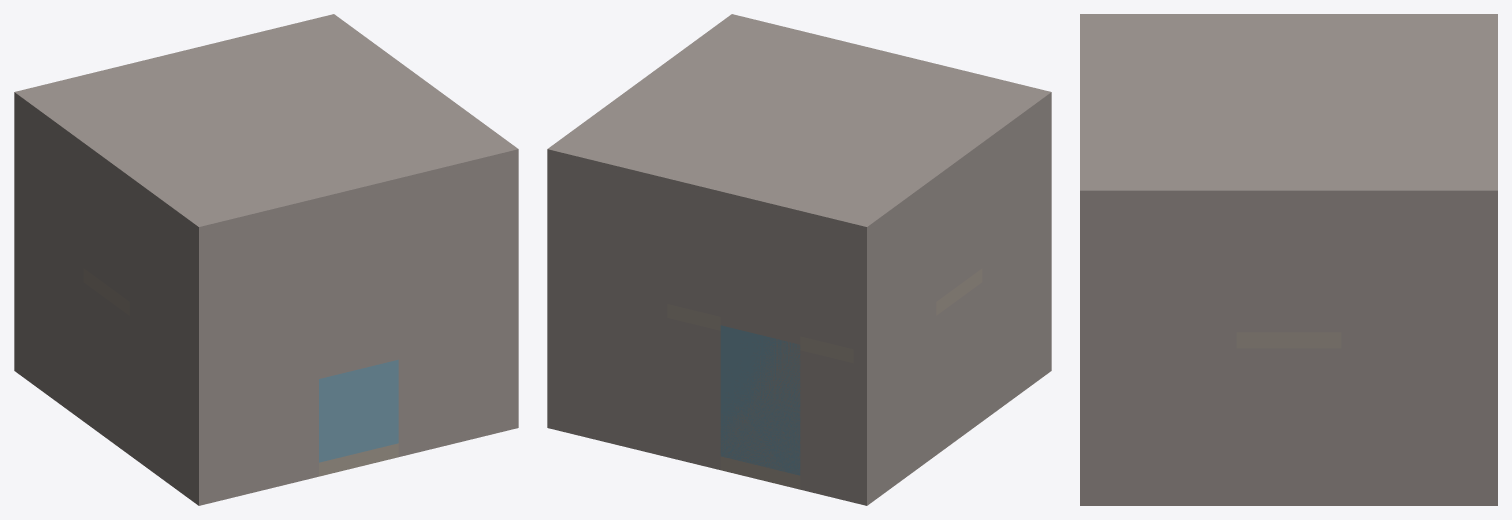
The model's file is creek-sink-sump-mirror.glb.
The picture shows the model from 3 angles, left to right: view 1: azimuth 30°, elevation 25°; view 2: azimuth 150°, elevation 25°; view 3: azimuth 270°, elevation 25°; orthographic projection. The views are drawn at different scales.
Parts seen in each view (by area): view 1: rock_32, rock_28, rock_4, rock_9, rock_8, rock_1, rock_24, rock_21, water_7, rock_14, rock_20, rock_7 (+8 smaller); view 2: rock_32, rock_2, plug_creek_north, rock_22, rock_1, rock_4, water_1, rock_21, rock_24, rock_10, rock_11, rock_14 (+8 smaller); view 3: rock_32, rock_5, rock_3, rock_25, rock_23, rock_15, plug_east, rock_31, rock_2, rock_22, cave-floor_11.
Part boxes in pixels (box(x1,y1,x2,y2)): rock_32: box(14, 14, 518, 240); rock_28: box(239, 173, 478, 342); rock_4: box(129, 302, 212, 505); rock_9: box(398, 284, 478, 456); rock_8: box(239, 323, 318, 495); rock_1: box(14, 218, 83, 421); rock_24: box(129, 191, 212, 352); rock_21: box(14, 106, 83, 267); water_7: box(319, 359, 398, 462); rock_14: box(83, 282, 129, 454); rock_20: box(319, 304, 398, 378); rock_7: box(478, 278, 505, 437); rock_32: box(547, 14, 1051, 240); rock_2: box(547, 274, 667, 456); plug_creek_north: box(667, 206, 853, 349); rock_22: box(547, 163, 667, 303); rock_1: box(853, 302, 936, 505); rock_4: box(982, 218, 1051, 421); water_1: box(720, 325, 800, 475); rock_21: box(853, 191, 936, 352); rock_24: box(982, 106, 1051, 267); rock_10: box(800, 350, 853, 502); rock_11: box(667, 318, 720, 469); rock_14: box(936, 282, 982, 454); rock_32: box(1080, 14, 1497, 206); rock_5: box(1080, 332, 1236, 505); rock_3: box(1341, 332, 1480, 505); rock_25: box(1080, 206, 1236, 332); rock_23: box(1341, 206, 1480, 332); rock_15: box(1236, 348, 1341, 505); plug_east: box(1236, 238, 1341, 332); rock_31: box(1236, 206, 1341, 237); rock_2: box(1480, 332, 1497, 505); rock_22: box(1480, 206, 1497, 332); cave-floor_11: box(1236, 332, 1341, 348).
Bounding box in the file's own units: 12 × 10 × 12.
